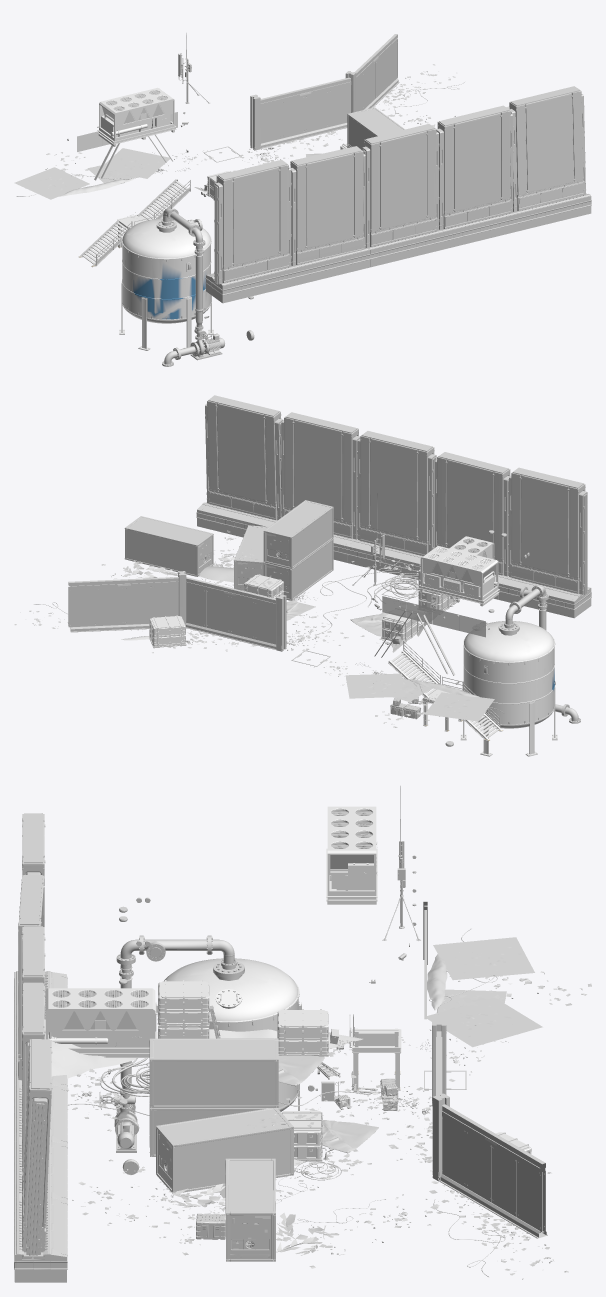
The model's file is cell_170_115.fbx.
3 views of the same model, one above another, from view 1: azimuth 30°, elevation 25°; view 2: azimuth 150°, elevation 25°; view 3: azimuth 270°, elevation 25° (orthographic). The views are drawn at different scales.
Parts seen in each view (by area): view 1: SM_H_Fence_Metal_1024x768_01.mo.195, SM_H_Fence_Metal_1024x768_01.mo.225, SM_H_Fence_Metal_1024x768_01.mo.222, SM_H_Fence_Metal_1024x768_01.mo.224, SM_H_Industrial_Mechanical_MetalSilo_01.mo.010, SM_H_Fence_Metal_1024x768_01.mo.223, SM_H_Fence_SoundproofWall_02.mo.115, SM_H_FutureTech_Electrical_BigConditioners_01.mo.036, SM_Industrial_Mechanical_LiquidTank_01b.mo.005, SM_H_Fence_SoundproofWall_02.mo.114, SM_H_Fence_Metal_1024x768_02.mo.175, SM_H_WalkwaySystem_MetalSupport_09.mo.003 (+7 smaller); view 2: SM_H_Fence_Metal_1024x768_01.mo.195, SM_H_Industrial_Mechanical_MetalSilo_01.mo.010, SM_H_Fence_Metal_1024x768_01.mo.224, SM_H_Fence_Metal_1024x768_01.mo.222, SM_H_Fence_Metal_1024x768_01.mo.225, SM_H_Fence_Metal_1024x768_01.mo.223, SM_H_Fence_SoundproofWall_02.mo.114, SM_H_Fence_SoundproofWall_02.mo.115, SM_H_Industrial_Container_02.mo.203, SM_H_FutureTech_Electrical_BigConditioners_01.mo.036, SM_H_Industrial_Container_02.mo.204, SM_H_Industrial_Container_02.mo.202 (+15 smaller); view 3: SM_H_Fence_SoundproofWall_02.mo.114, SM_H_Industrial_Container_02.mo.204, SM_H_Industrial_Container_02.mo.201, SM_H_FutureTech_Electrical_BigConditioners_01.mo.045, SM_H_Industrial_Mechanical_MetalSilo_01.mo.010, SM_H_Fence_Metal_1024x768_01.mo.222, SM_H_Industrial_Container_02.mo.203, SM_H_FutureTech_Electrical_BigConditioners_01.mo.036, SM_Industrial_Mechanical_LiquidTank_01b.mo.005, SM_H_Fence_Metal_1024x768_02.mo.216, SM_DECOR_GrassDebris_Less_01_HD.mo.2048, SM_DECOR_GrassDebris_Less_01_HD.mo.1362 (+22 smaller).
Part boxes in pixels (x1,y1,x2,y2): SM_H_Fence_Metal_1024x768_01.mo.195: (214,159,291,284); SM_H_Fence_Metal_1024x768_01.mo.225: (436,105,513,229); SM_H_Fence_Metal_1024x768_01.mo.222: (509,86,586,211); SM_H_Fence_Metal_1024x768_01.mo.224: (362,124,438,247); SM_H_Industrial_Mechanical_MetalSilo_01.mo.010: (119,218,213,350); SM_H_Fence_Metal_1024x768_01.mo.223: (290,146,365,265); SM_H_Fence_SoundproofWall_02.mo.115: (250,77,351,150); SM_H_FutureTech_Electrical_BigConditioners_01.mo.036: (97,87,176,146); SM_Industrial_Mechanical_LiquidTank_01b.mo.005: (156,208,224,366); SM_H_Fence_SoundproofWall_02.mo.114: (345,34,399,112); SM_H_Fence_Metal_1024x768_02.mo.175: (205,265,296,303); SM_H_WalkwaySystem_MetalSupport_09.mo.003: (78,179,190,267); SM_H_Fence_Metal_1024x768_01.mo.195: (509,467,587,594); SM_H_Industrial_Mechanical_MetalSilo_01.mo.010: (460,621,557,756); SM_H_Fence_Metal_1024x768_01.mo.224: (358,431,436,555); SM_H_Fence_Metal_1024x768_01.mo.222: (205,395,283,520); SM_H_Fence_Metal_1024x768_01.mo.225: (281,412,360,539); SM_H_Fence_Metal_1024x768_01.mo.223: (435,452,510,576); SM_H_Fence_SoundproofWall_02.mo.114: (68,571,186,632); SM_H_Fence_SoundproofWall_02.mo.115: (185,577,286,651); SM_H_Industrial_Container_02.mo.203: (124,516,213,576); SM_H_FutureTech_Electrical_BigConditioners_01.mo.036: (419,546,499,606); SM_H_Industrial_Container_02.mo.204: (263,500,333,568); SM_H_Industrial_Container_02.mo.202: (263,538,333,600); SM_H_Fence_SoundproofWall_02.mo.114: (432,1093,547,1238); SM_H_Industrial_Container_02.mo.204: (149,1038,278,1107); SM_H_Industrial_Container_02.mo.201: (156,1108,293,1193); SM_H_FutureTech_Electrical_BigConditioners_01.mo.045: (45,988,157,1057); SM_H_Industrial_Mechanical_MetalSilo_01.mo.010: (156,958,301,1111); SM_H_Fence_Metal_1024x768_01.mo.222: (22,1039,52,1255); SM_H_Industrial_Container_02.mo.203: (225,1158,275,1261); SM_H_FutureTech_Electrical_BigConditioners_01.mo.036: (326,806,377,904); SM_Industrial_Mechanical_LiquidTank_01b.mo.005: (99,935,244,1152); SM_H_Fence_Metal_1024x768_02.mo.216: (14,1197,67,1282); SM_DECOR_GrassDebris_Less_01_HD.mo.2048: (433,937,534,980); SM_DECOR_GrassDebris_Less_01_HD.mo.1362: (427,997,542,1047).
Bounding box in the file's own units: 47.64 × 26.2 × 33.17.
